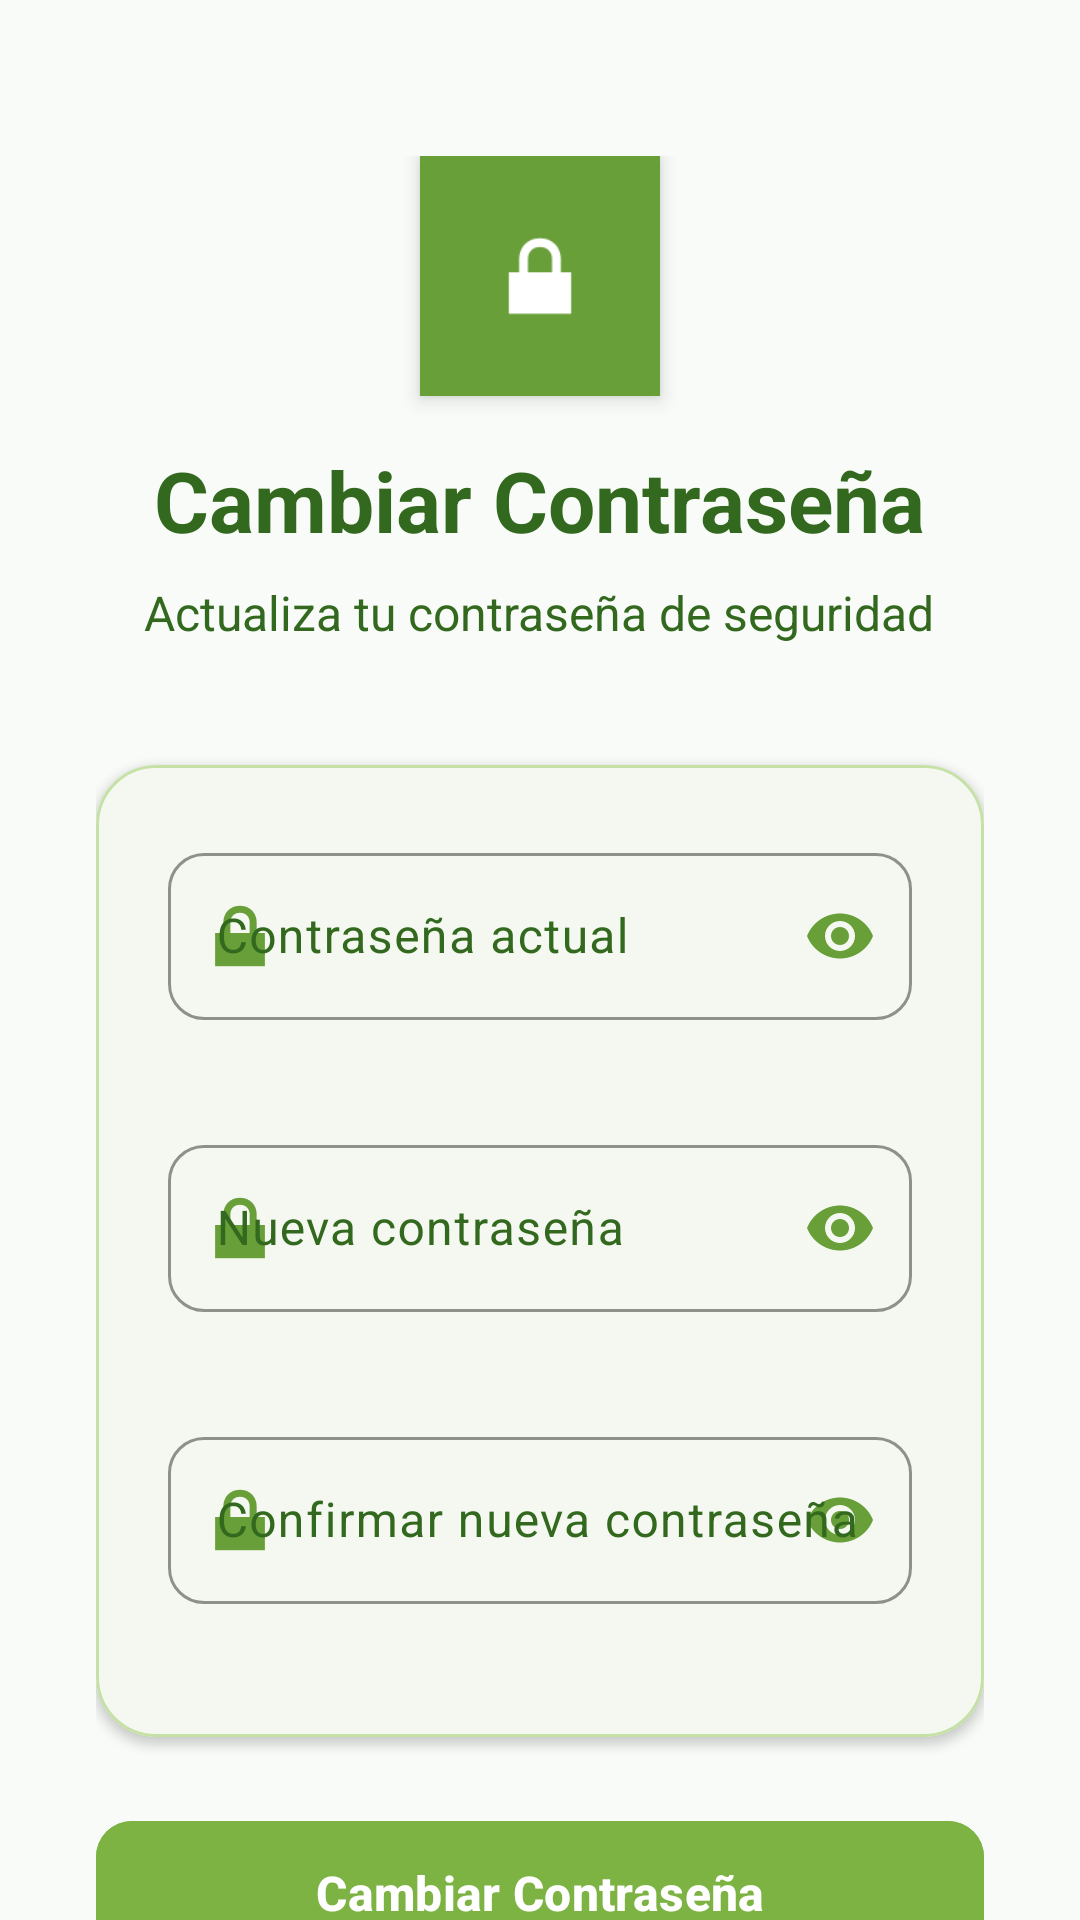

Icons on this 1080px×1920px Android screen, each with the point to tap as point (x, y):
lock: point (540, 276)
